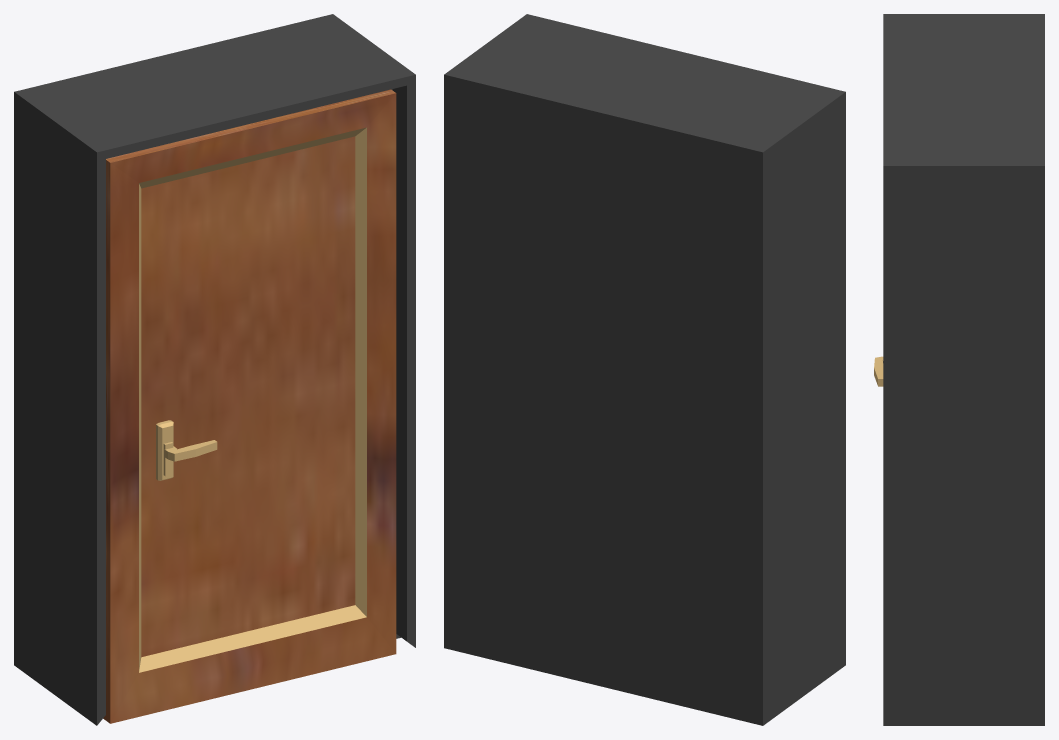
The model's file is HotelDoor.fbx.
The picture shows the model from 3 angles, left to right: view 1: azimuth 30°, elevation 25°; view 2: azimuth 150°, elevation 25°; view 3: azimuth 270°, elevation 25°; orthographic projection. The views are drawn at different scales.
Visible parts, largest first — view 1: Cube.001, Cube.004, Cube.002, Cube.003; view 2: Cube.004; view 3: Cube.004.
Boxes of the visible parts, bbox=[...] form: Cube.001: bbox=[103, 89, 396, 723]; Cube.004: bbox=[14, 14, 415, 725]; Cube.002: bbox=[156, 420, 173, 480]; Cube.003: bbox=[163, 440, 217, 461]; Cube.004: bbox=[444, 14, 845, 725]; Cube.004: bbox=[883, 14, 1044, 725].
Bounding box in the file's own units: 189 × 327 × 89.67.
